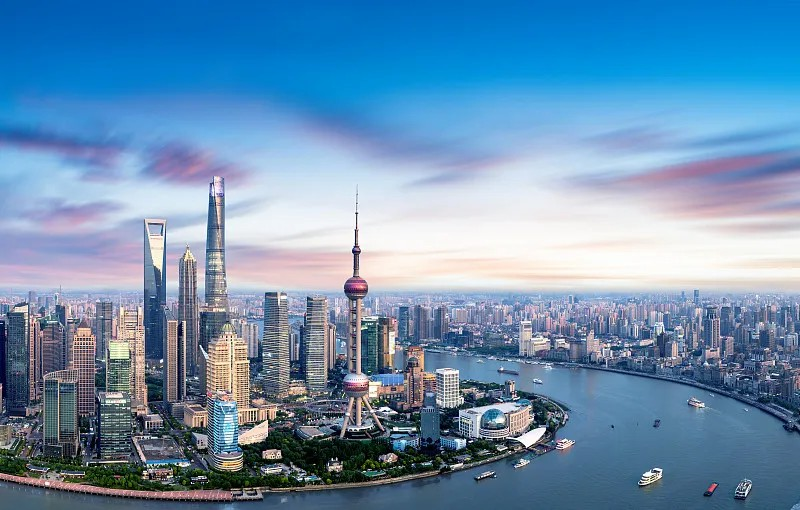Oriental: (339, 185, 384, 438)
